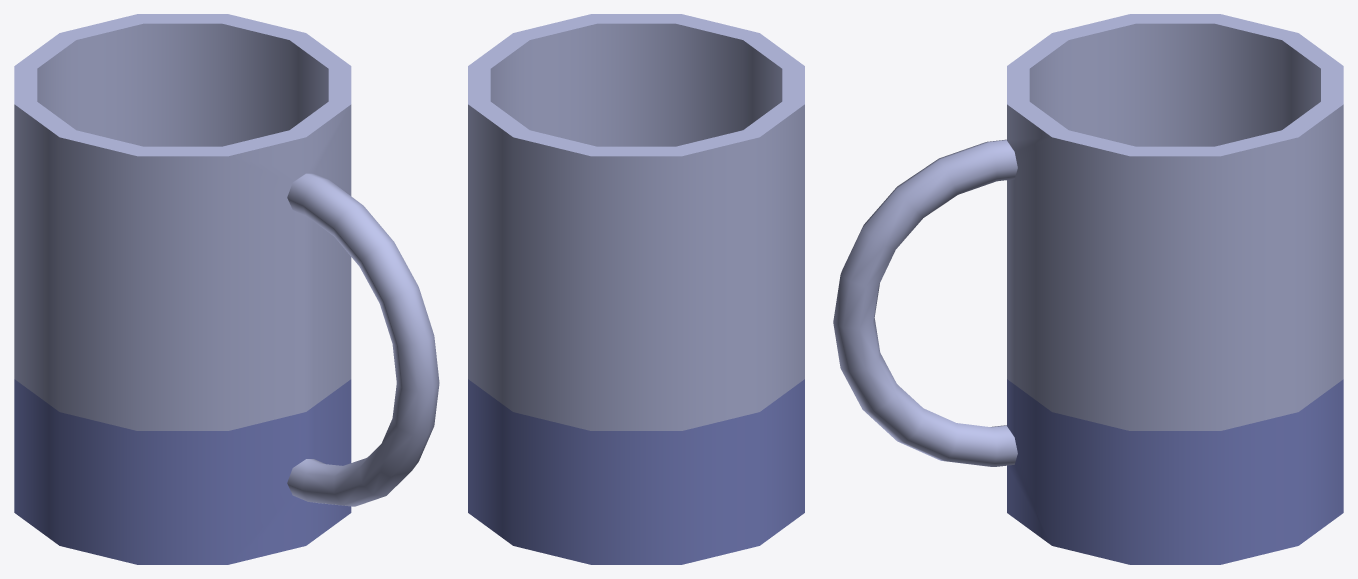
File: ThrowProp_Mug_01.FBX
3 renders of one model, left to right at view 1: azimuth 30°, elevation 25°; view 2: azimuth 150°, elevation 25°; view 3: azimuth 270°, elevation 25°, orthographic.
Visible parts, largest first — view 1: Mug001; view 2: Mug001; view 3: Mug001.
Boxes of the visible parts, x1,y1,x2,y2 form: Mug001: (14, 14, 439, 564); Mug001: (468, 14, 804, 564); Mug001: (833, 14, 1343, 564).
Bounding box in the file's own units: 7.92 × 10.6 × 12.
1 material, 1 textured.
